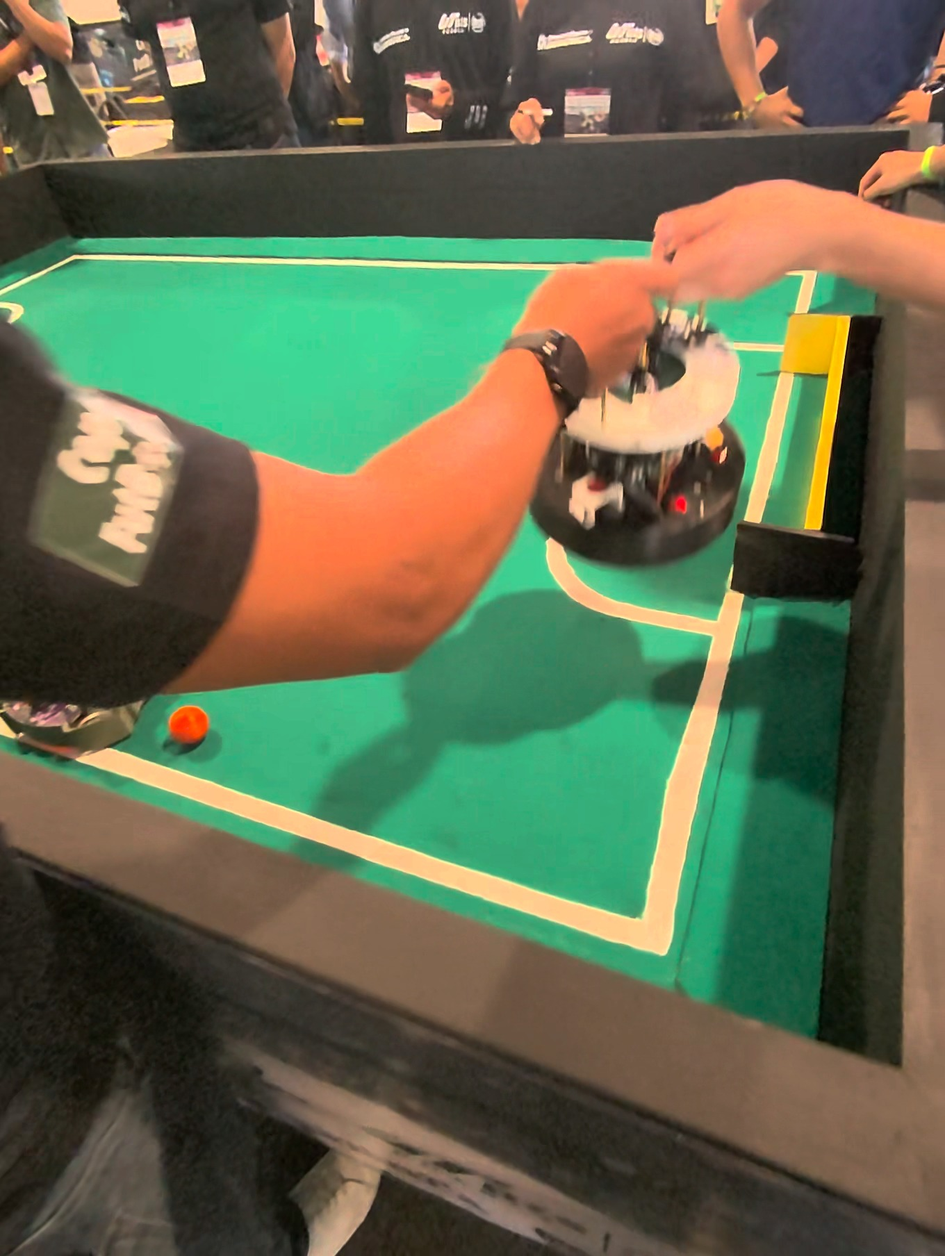Robot: (531, 260, 774, 600), (0, 669, 151, 774), (916, 0, 945, 118)
pelota: (168, 704, 212, 749)
